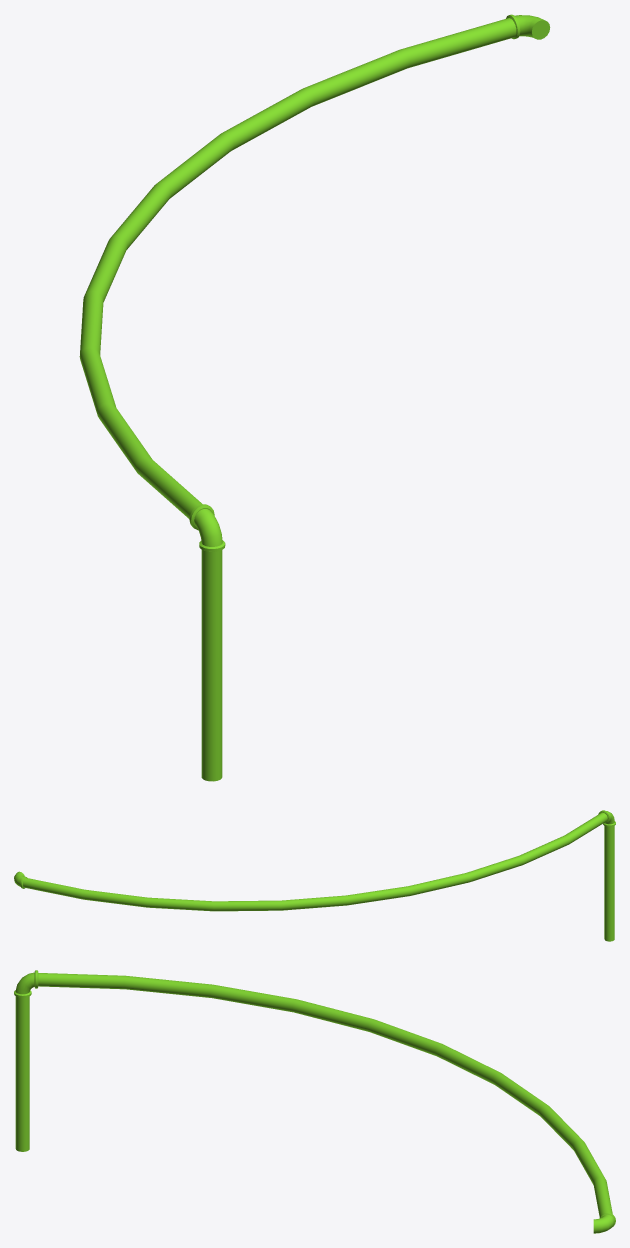
Rendered from Tank_Pipe_02B_Lod0.fbx.
3 renders of one model, top to bottom at view 1: azimuth 30°, elevation 25°; view 2: azimuth 150°, elevation 25°; view 3: azimuth 270°, elevation 25°, orthographic. The views are drawn at different scales.
Parts seen in each view (by area): view 1: Tank_Pipe_02B_Lod0; view 2: Tank_Pipe_02B_Lod0; view 3: Tank_Pipe_02B_Lod0.
Part boxes in pixels (<box>): Tank_Pipe_02B_Lod0: <box>79,14,550,781</box>; Tank_Pipe_02B_Lod0: <box>14,810,615,941</box>; Tank_Pipe_02B_Lod0: <box>14,970,615,1233</box>.
Bounding box in the file's own units: 4037 × 1318 × 4042.
